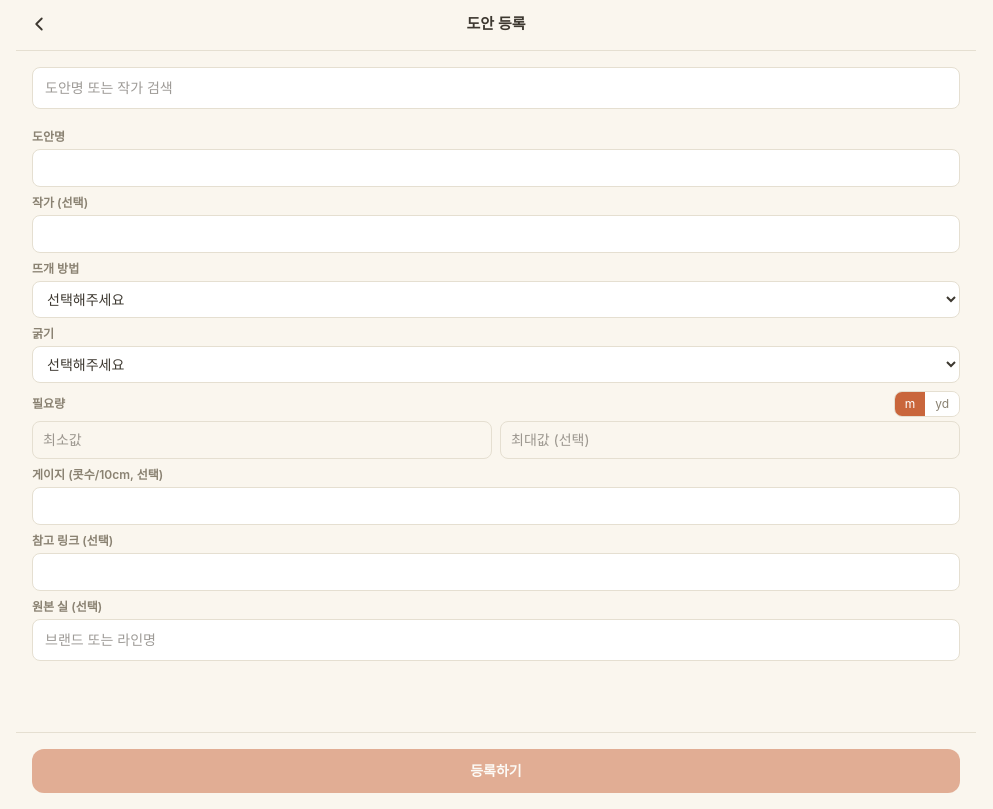
Test case: PatternRegisterPage › Ravelry 상세 조회가 503이면 안내만 띄우고 직접 입력할 수 있게 둔다
The width and height of the screenshot is (993, 809).
Type "flax" into the field with placeholder "도안명 또는 작가 검색" at (496, 88), box [32,66,960,108]
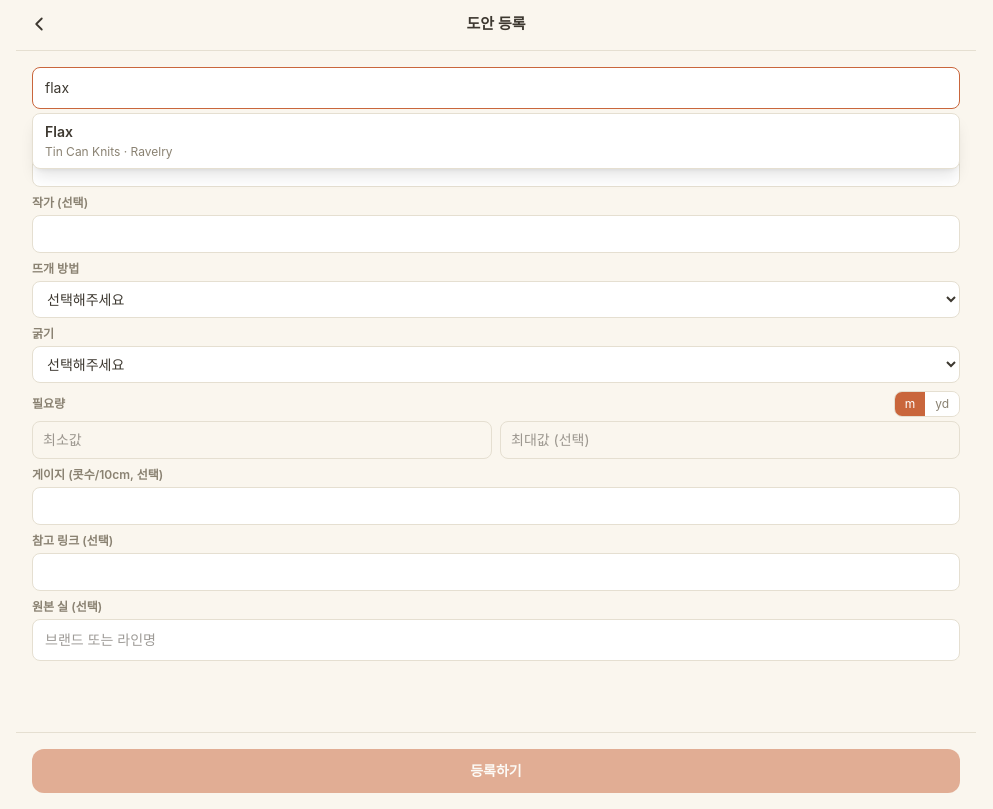
Click the button "Flax Tin Can Knits · Ravelry" at (83, 151), box [33,114,959,168]
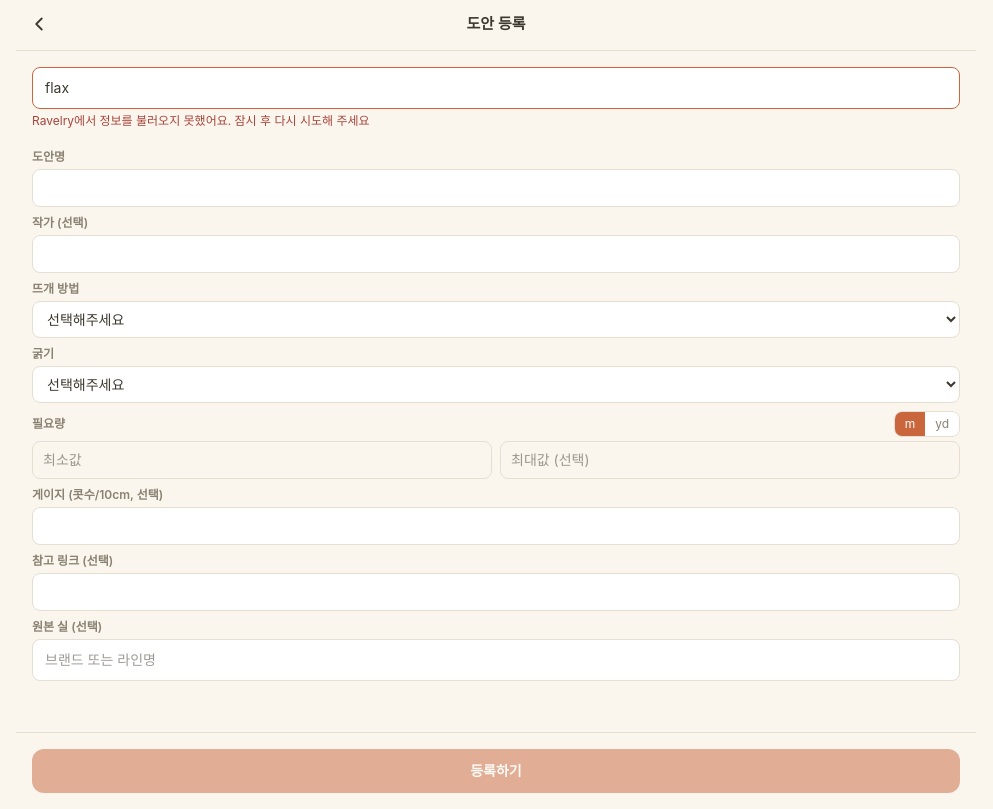
Expected: the field below "도안명" is empty, [32,168,960,206]
Expected: the text "Ravelry에서 정보를 불러오지 못했어요. 잠시 후 다시 시도해 주세요" is shown, [32,112,370,128]
